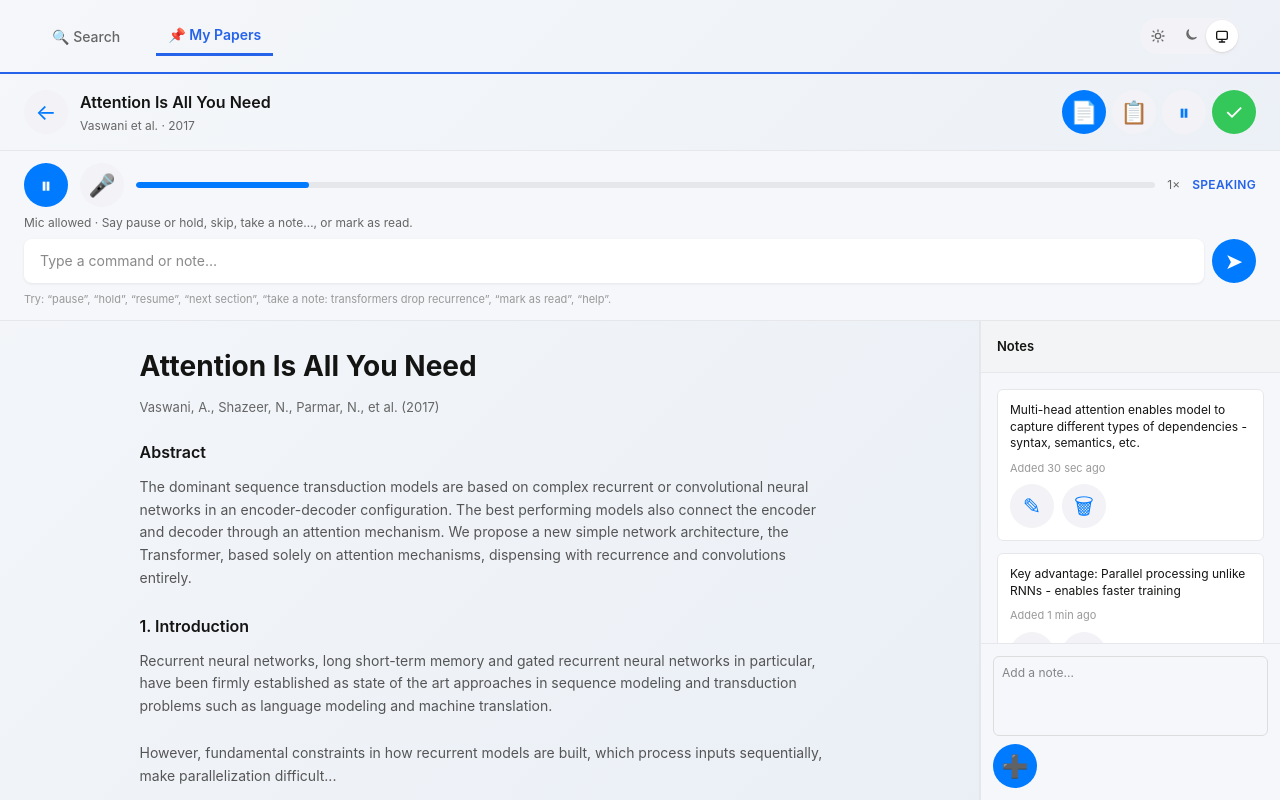
UX: Listen voice partner › When the user types take a note, Then the note is saved as a voice note
In the field with placeholder "Type a command or note…": (614, 261) [24,239,1204,283], type "take a note: barge-in should pause reading"
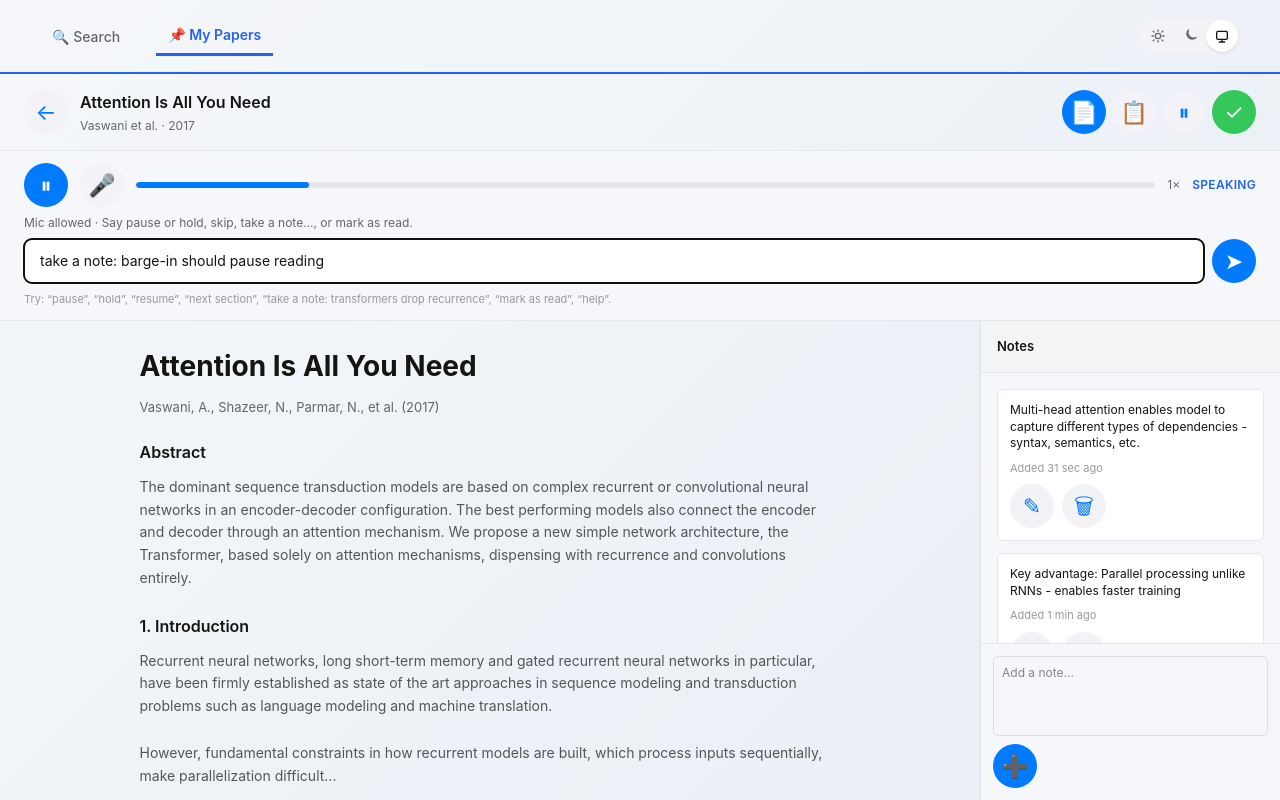
Click the button named "go": click(1234, 261) [1212,239,1256,283]
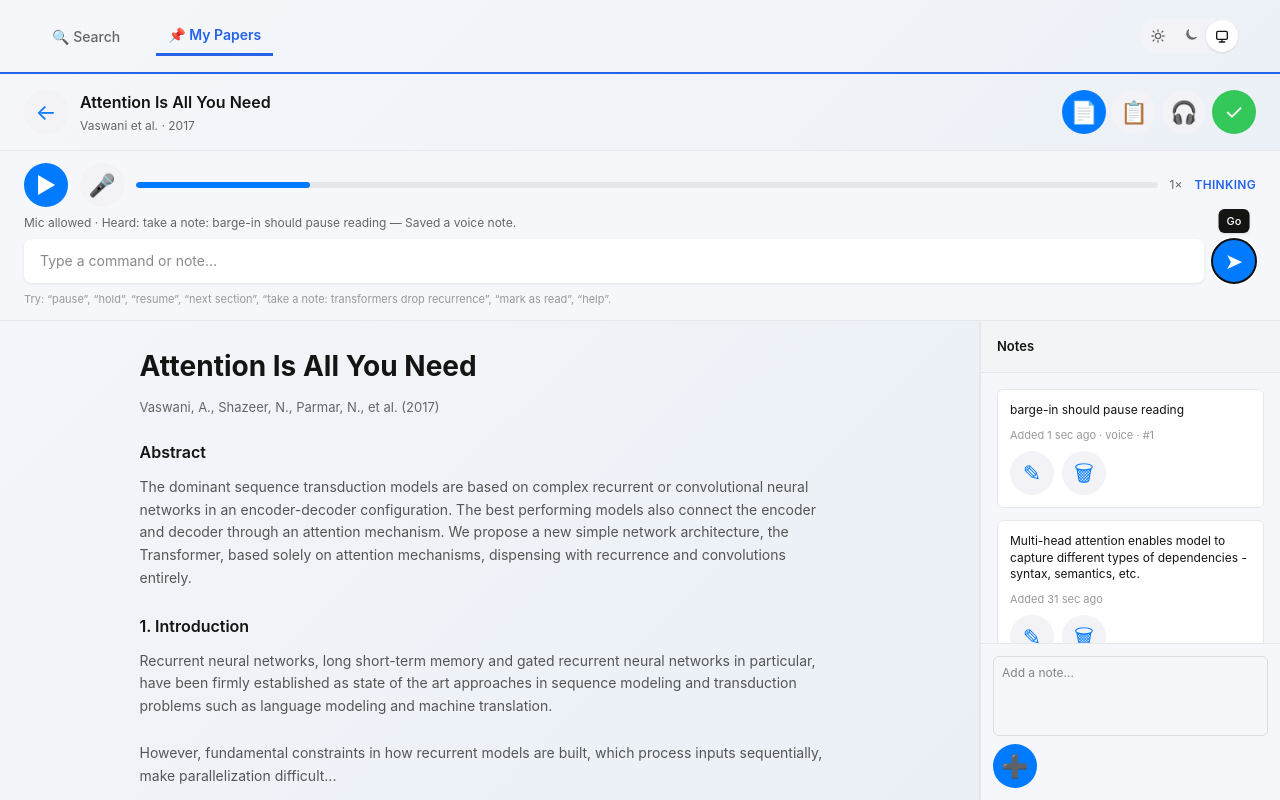
Expected: the text "barge-in should pause reading" is shown, [1010,402,1184,417]
Expected: the text "Added 1 sec ago · voice · #1" is shown, [1010,428,1154,442]
